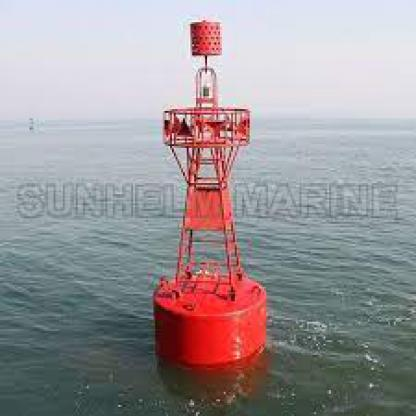buoy: (136, 13, 274, 373)
